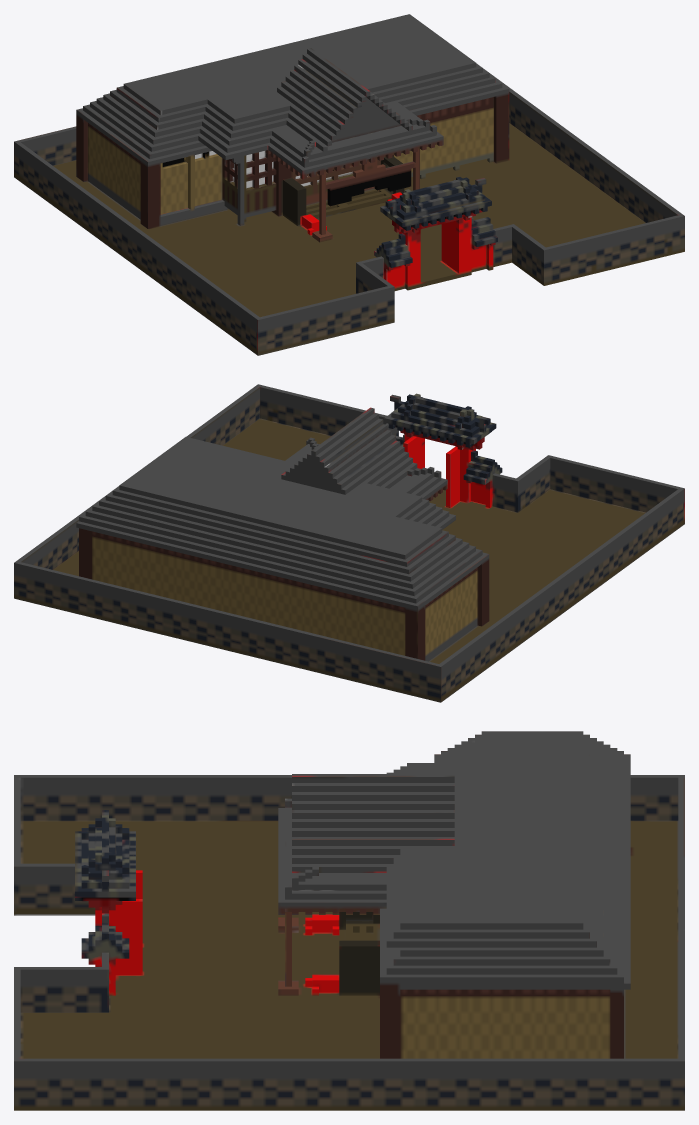
Rendered from senganen.glb.
The picture shows the model from 3 angles, top to bottom: view 1: azimuth 30°, elevation 25°; view 2: azimuth 150°, elevation 25°; view 3: azimuth 270°, elevation 25°; orthographic projection. The views are drawn at different scales.
Parts seen in each view (by area): view 1: senganen; view 2: senganen; view 3: senganen.
Boxes of the visible parts, x1,y1,x2,y2 form: senganen: [14, 14, 684, 355]; senganen: [14, 384, 684, 702]; senganen: [14, 731, 684, 1110].
Bounding box in the file's own units: 2 × 0.62 × 1.98.
1 material, 1 textured.
